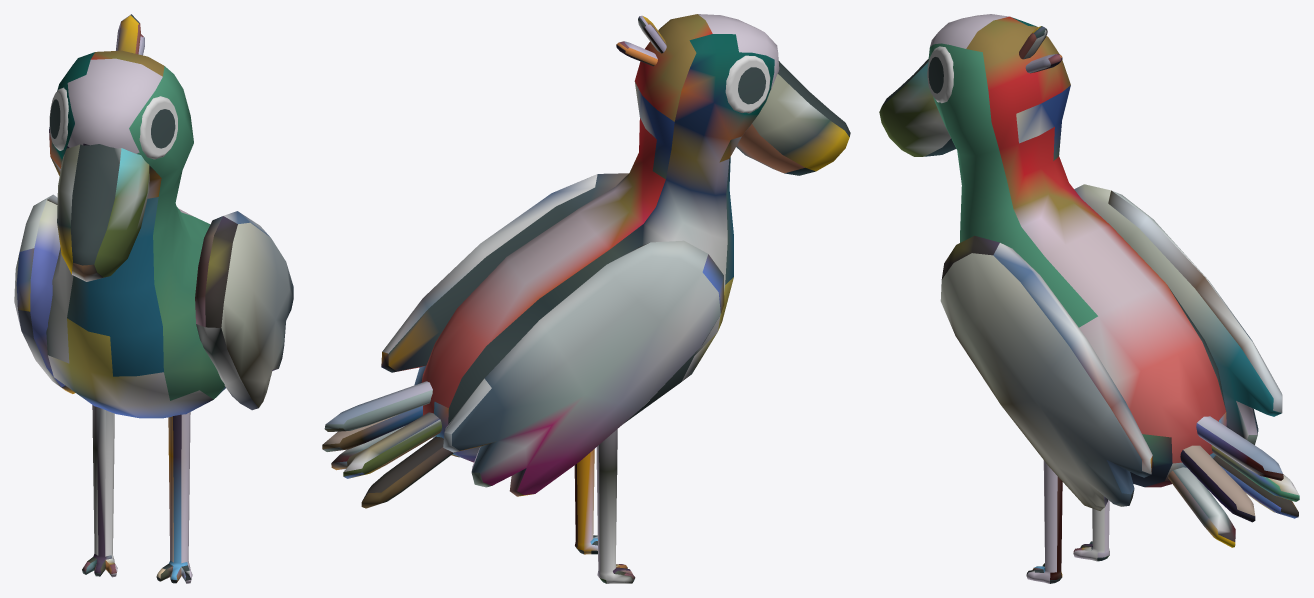
File: Shoebill.glb
3 views of the same model, side by side, from view 1: azimuth 30°, elevation 25°; view 2: azimuth 150°, elevation 25°; view 3: azimuth 270°, elevation 25° (orthographic). The views are drawn at different scales.
Parts seen in each view (by area): view 1: 151; view 2: 151; view 3: 151.
Part boxes in pixels (x1,y1,x2,y2): 151: (14,14,293,583); 151: (322,14,850,583); 151: (879,14,1299,583).
Size of the model in its own units: 0.8736 by 1.32 by 0.9517.
